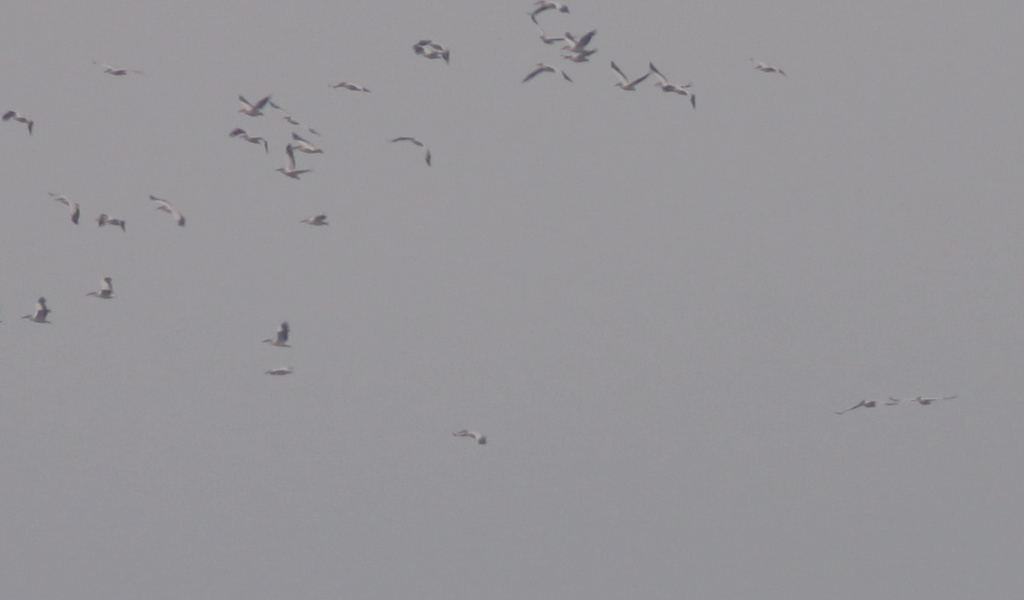bird: (655, 69, 697, 103), (612, 63, 652, 96), (227, 124, 274, 151), (394, 134, 435, 163), (272, 102, 309, 132), (522, 62, 570, 85), (52, 190, 82, 224), (275, 146, 304, 180), (838, 397, 891, 415), (93, 59, 145, 77), (891, 393, 957, 407), (152, 196, 185, 224), (263, 322, 295, 350), (531, 19, 565, 45), (332, 77, 375, 97), (235, 90, 269, 115), (3, 109, 38, 132), (87, 277, 121, 300), (565, 29, 598, 52), (453, 427, 488, 447), (22, 299, 53, 321), (95, 211, 126, 231), (753, 58, 787, 76), (418, 35, 451, 53), (530, 2, 571, 16), (291, 132, 317, 153), (297, 212, 331, 225), (415, 44, 441, 58), (565, 54, 599, 64), (265, 364, 292, 375)
